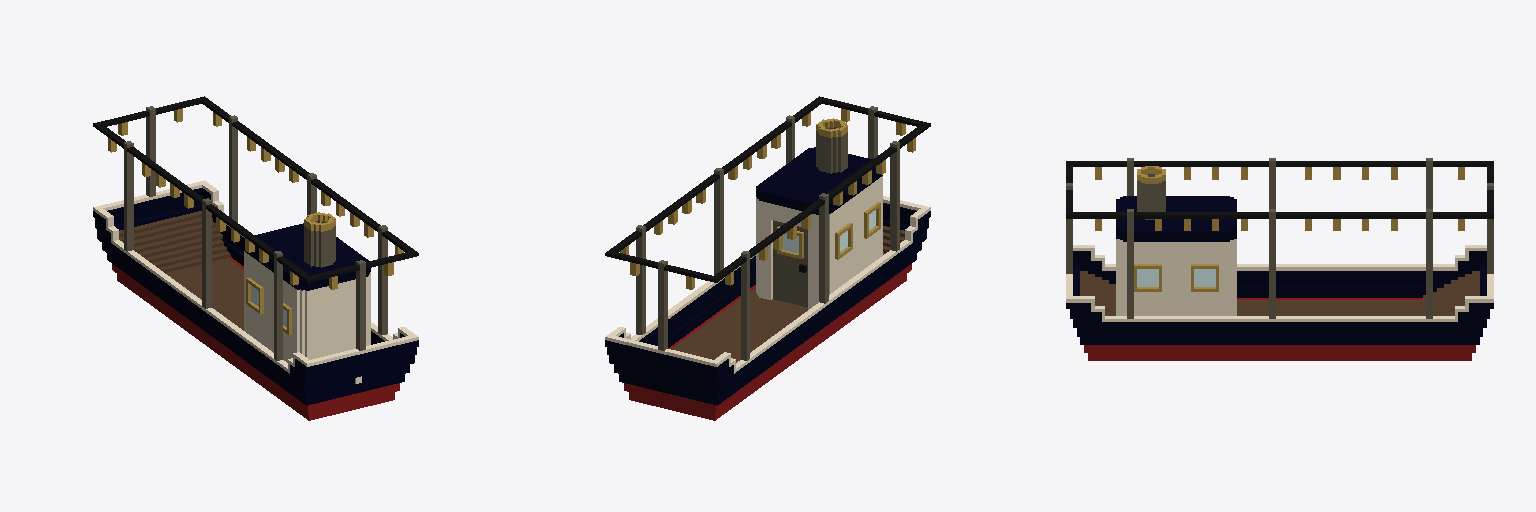
3 renders of one model, left to right at view 1: azimuth 30°, elevation 25°; view 2: azimuth 150°, elevation 25°; view 3: azimuth 270°, elevation 25°, orthographic.
Parts seen in each view (by area): view 1: object 1; view 2: object 1; view 3: object 1.
Part boxes in pixels (x1,y1,x2,y2): object 1: (93,96,418,420); object 1: (605,96,930,420); object 1: (1066,158,1493,360).
Size of the model in its own units: 3.6 by 5.2 by 12.
Materials: 1 (1 with a texture image).